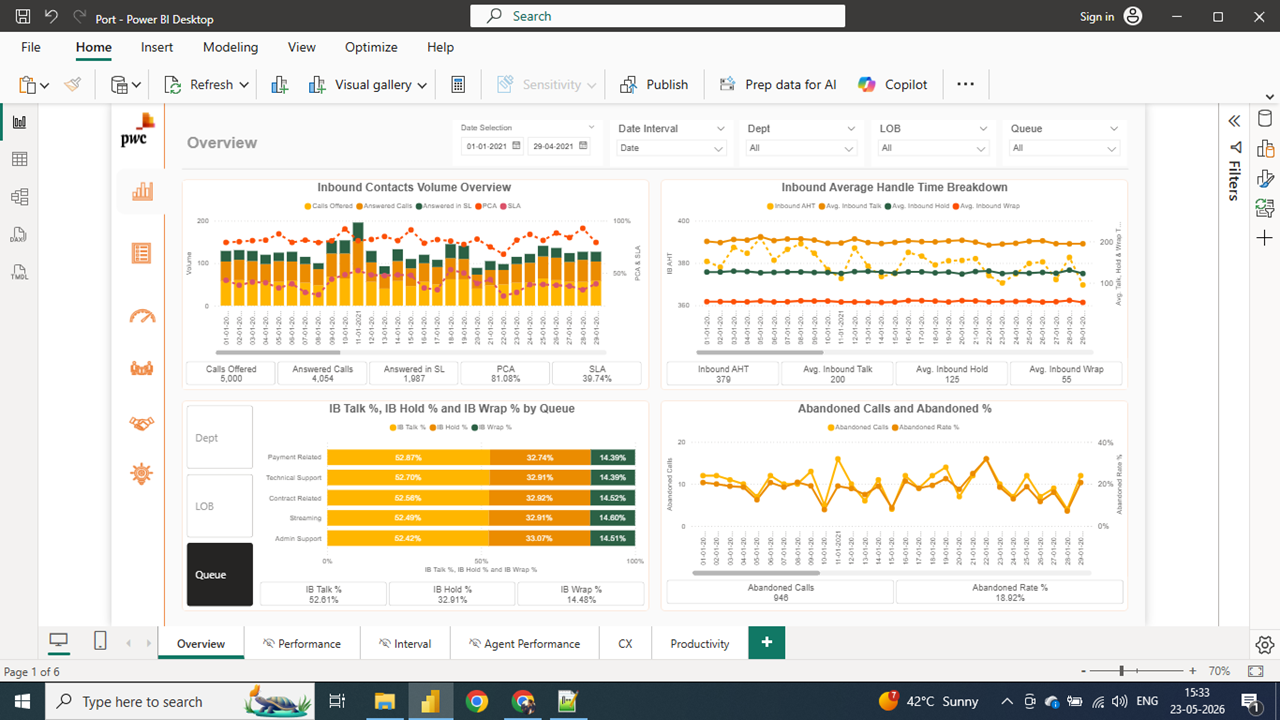

This screenshot's page, from the dashboard's own definition file:
{"tool":"powerbi","page":{"name":"Overview","canvas":[1580,800],"ordinal":0},"visuals":[{"type":"lineStackedColumnComboChart","title":"Inbound Contacts Volume Overview","fields":{"Category":["Date Calendar.Date"],"Y":["Measures (2).Calls Offered","Measures (2).Answered Calls","Measures (2).Answered in SL"],"Y2":["Measures (2).PCA","Measures (2).SLA"]},"box":[109.6,119.1,708.5,271.3],"z":0},{"type":"lineChart","title":"Inbound Average Handle Time Breakdown","fields":{"Category":["Date Calendar.Date"],"Y":["Measures (2).Inbound AHT"],"Y2":["Measures (2).Avg. Inbound Talk","Measures (2).Avg. Inbound Hold","Measures (2).Avg. Inbound Wrap"]},"box":[844.4,119,708.2,271],"z":1000},{"type":"slicer","fields":{"Values":["_P_Date_Interval._P_Date_Interval"]},"box":[762.1,25.2,189,70.9],"z":2000},{"type":"textbox","box":[110.2,40.9,149.6,45.7],"z":3000},{"type":"slicer","fields":{"Values":["Dept.Dept Name"]},"box":[961.3,25.2,190.6,70.9],"z":4000},{"type":"slicer","fields":{"Values":["LOB.LOB Name"]},"box":[1162,25.2,190.6,70.9],"z":5000},{"type":"slicer","fields":{"Values":["Queue.Queue Name"]},"box":[1362.8,25.6,189.8,70],"z":6000},{"type":"hundredPercentStackedBarChart","fields":{"Category":["Queue.Queue Name"],"Y":["Measures (2).IB Talk %","Measures (2).IB Hold %","Measures (2).IB Wrap %"]},"box":[222.2,457.3,597.8,266.7],"z":7000},{"type":"advancedSlicerVisual","fields":{"Values":["Mapping.Mapping"]},"box":[110.4,456.7,111.9,318],"z":8000},{"type":"lineChart","title":"Abandoned Calls and Abandoned %","fields":{"Category":["Date Calendar.Date"],"Y":["Measures (2).Abandoned Calls"],"Y2":["Measures (2).Abandoned Rate %"]},"box":[844,457,709,270],"z":9000},{"type":"cardVisual","fields":{"Data":["Measures (2).Calls Offered","Measures (2).Answered Calls","Measures (2).Answered in SL","Measures (2).PCA","Measures (2).SLA"]},"box":[108.7,390.4,710,47],"z":10000},{"type":"cardVisual","fields":{"Data":["Measures (2).Inbound AHT","Measures (2).Avg. Inbound Talk","Measures (2).Avg. Inbound Hold","Measures (2).Avg. Inbound Wrap"]},"box":[844.4,390,709.7,47.3],"z":11000},{"type":"cardVisual","fields":{"Data":["Measures (2).IB Talk %","Measures (2).IB Hold %","Measures (2).IB Wrap %"]},"box":[222,727,598,47.5],"z":12000},{"type":"cardVisual","fields":{"Data":["Measures (2).IB Talk %","Measures (2).IB Hold %","Measures (2).IB Wrap %"]},"box":[1135.5,1284,598,47.5],"z":13000},{"type":"cardVisual","fields":{"Data":["Measures (2).Abandoned Calls","Measures (2).Abandoned Rate %"]},"box":[844.4,724,709.7,47.3],"z":14000},{"type":"pageNavigator","box":[0,95.3,85,520.3],"z":15000},{"type":"slicer","title":"Date Selection","fields":{"Values":["Date Calendar.Date"]},"box":[521.8,26.4,230.1,70.4],"z":15001},{"type":"image","box":[1.3,11.3,78.3,58.7],"z":15002}]}

Visuals, with their boxes on the page's 1580x800 design canvas (x1, y1, x2, y2). These are canvas units, not pixel positions in the 1280x720 screenshot, which may show the page scaled, cropped or inside an application window:
"Inbound Contacts Volume Overview" lineStackedColumnComboChart: box(110, 119, 818, 390)
"Inbound Average Handle Time Breakdown" lineChart: box(844, 119, 1553, 390)
slicer - _P_Date_Interval._P_Date_Interval: box(762, 25, 951, 96)
textbox: box(110, 41, 260, 87)
slicer - Dept.Dept Name: box(961, 25, 1152, 96)
slicer - LOB.LOB Name: box(1162, 25, 1353, 96)
slicer - Queue.Queue Name: box(1363, 26, 1553, 96)
hundredPercentStackedBarChart - Queue.Queue Name x Measures (2).IB Talk %: box(222, 457, 820, 724)
advancedSlicerVisual - Mapping.Mapping: box(110, 457, 222, 775)
"Abandoned Calls and Abandoned %" lineChart: box(844, 457, 1553, 727)
cardVisual - Measures (2).Calls Offered x Measures (2).Answered Calls: box(109, 390, 819, 437)
cardVisual - Measures (2).Inbound AHT x Measures (2).Avg. Inbound Talk: box(844, 390, 1554, 437)
cardVisual - Measures (2).IB Talk % x Measures (2).IB Hold %: box(222, 727, 820, 774)
cardVisual - Measures (2).IB Talk % x Measures (2).IB Hold %: box(1136, 1284, 1734, 1332)
cardVisual - Measures (2).Abandoned Calls x Measures (2).Abandoned Rate %: box(844, 724, 1554, 771)
pageNavigator: box(0, 95, 85, 616)
"Date Selection" slicer: box(522, 26, 752, 97)
image: box(1, 11, 80, 70)
